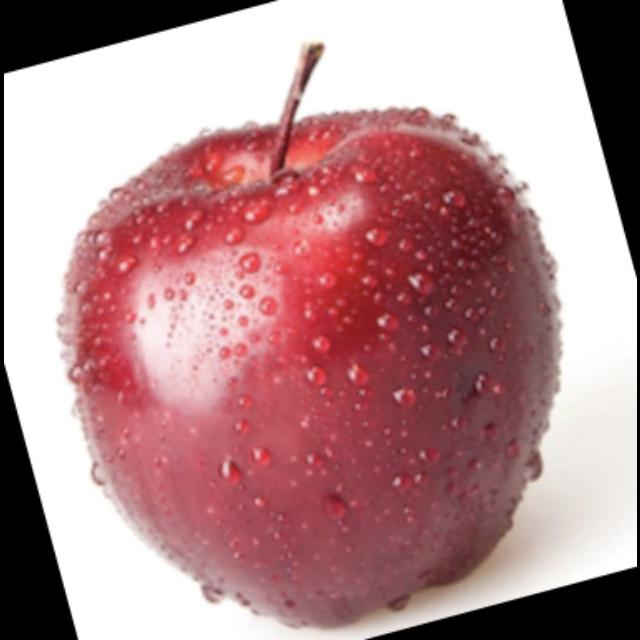Apel Segar: (28, 90, 622, 622)
